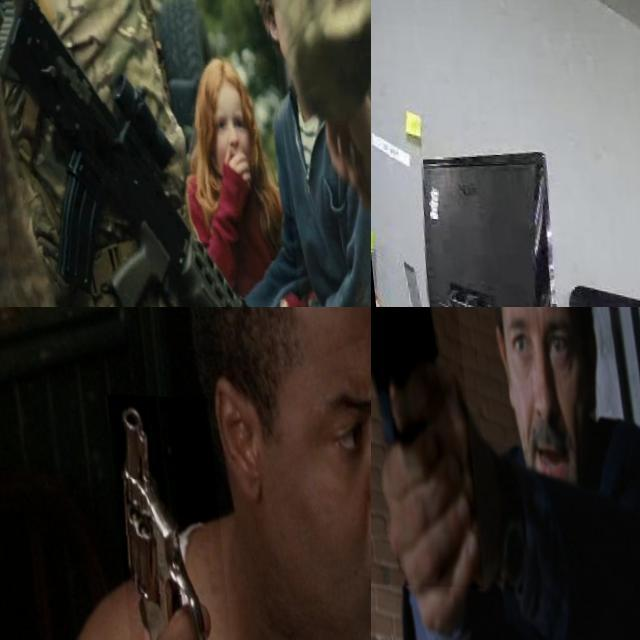gun-knife-thesis - v11 Yolov5 augmented: (0, 0, 304, 307), (100, 392, 227, 640), (371, 307, 476, 585)
